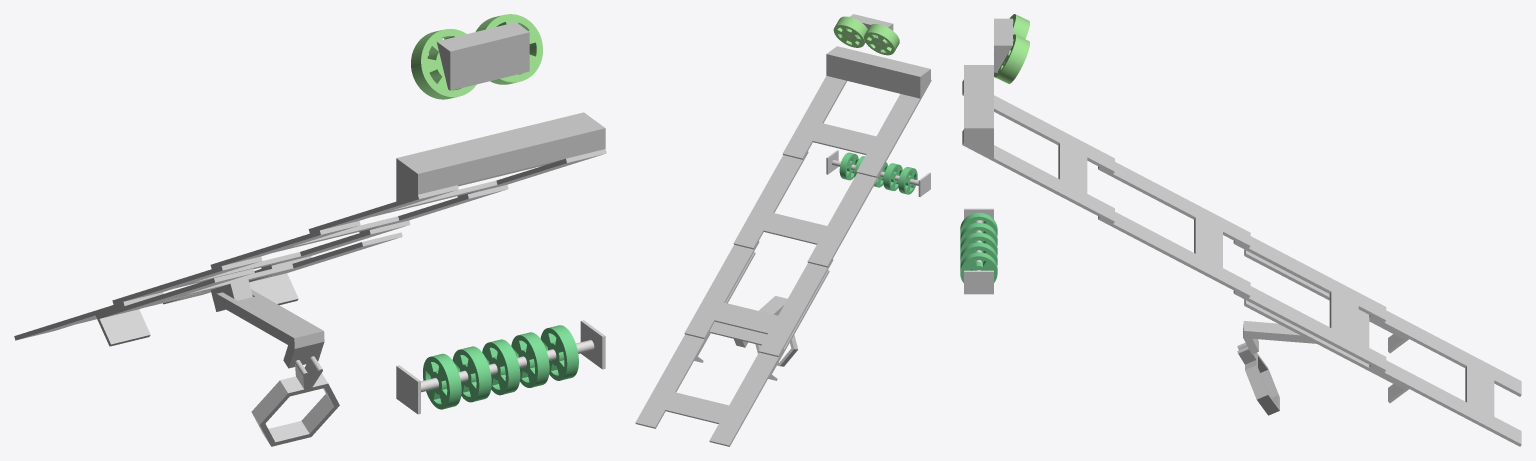
The model's file is new-cs-bot.fbx.
The picture shows the model from 3 angles, left to right: view 1: azimuth 30°, elevation 25°; view 2: azimuth 150°, elevation 25°; view 3: azimuth 270°, elevation 25°; orthographic projection. The views are drawn at different scales.
Parts seen in each view (by area): view 1: Body1.006, Body2.005, Body1.009, Body1.003, Body2.001, Body2.002, Body2.003, Body1.007, Body1.011, Body2, Body1.004, Body1.008 (+6 smaller); view 2: Body2.003, Body2.002, Body2.004, Body2.001, Body1.006, Body2.005, Body1.005, Body1.011, Body1.010, Body1.007, Body1.008, Body14.002 (+3 smaller); view 3: Body2.003, Body2.004, Body2.002, Body2.001, Body2.005, Body1.006, Body1.003, Body1.007, Body1.004, Body1.010, Body1.009, Body16.
Boxes of the visible parts, x1=… form: Body1.006: x1=396, y1=112, x2=605, y2=194; Body2.005: x1=95, y1=232, x2=402, y2=346; Body1.009: x1=436, y1=22, x2=529, y2=90; Body1.003: x1=214, y1=289, x2=324, y2=368; Body2.001: x1=308, y1=149, x2=606, y2=233; Body2.002: x1=210, y1=185, x2=508, y2=268; Body2.003: x1=112, y1=220, x2=410, y2=304; Body1.007: x1=396, y1=320, x2=605, y2=414; Body1.011: x1=411, y1=29, x2=476, y2=99; Body2: x1=251, y1=360, x2=308, y2=446; Body1.004: x1=284, y1=356, x2=339, y2=441; Body1.008: x1=423, y1=353, x2=461, y2=409; Body2.003: x1=684, y1=241, x2=833, y2=357; Body2.002: x1=733, y1=151, x2=882, y2=267; Body2.004: x1=635, y1=330, x2=784, y2=446; Body2.001: x1=782, y1=76, x2=931, y2=177; Body1.006: x1=826, y1=46, x2=930, y2=87; Body2.005: x1=694, y1=252, x2=829, y2=380; Body1.005: x1=826, y1=64, x2=930, y2=98; Body1.011: x1=864, y1=24, x2=899, y2=55; Body1.010: x1=833, y1=16, x2=867, y2=47; Body1.007: x1=826, y1=150, x2=930, y2=196; Body1.008: x1=898, y1=167, x2=917, y2=194; Body14.002: x1=883, y1=163, x2=902, y2=190; Body2.003: x1=1233, y1=236, x2=1386, y2=372; Body2.004: x1=1369, y1=310, x2=1521, y2=446; Body2.002: x1=1098, y1=162, x2=1250, y2=298; Body2.001: x1=962, y1=79, x2=1114, y2=223; Body2.005: x1=1244, y1=249, x2=1408, y2=403; Body1.006: x1=964, y1=65, x2=993, y2=142; Body1.003: x1=1243, y1=321, x2=1316, y2=354; Body1.007: x1=964, y1=208, x2=993, y2=294; Body1.004: x1=1237, y1=343, x2=1279, y2=415; Body1.010: x1=994, y1=34, x2=1029, y2=83; Body1.009: x1=994, y1=18, x2=1012, y2=72; Body16: x1=960, y1=252, x2=997, y2=282.
Bounding box in the file's own units: 24 × 68.74 × 90.02.
